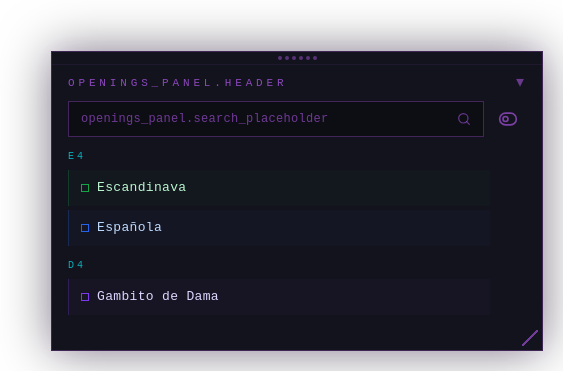
OpeningsPanel › does not show opening buttons when collapsed
# The collapse toggle button (▾)
Step 1. Click the button "▾" → (520, 83), box top-left (514, 73), bottom-right (526, 93)
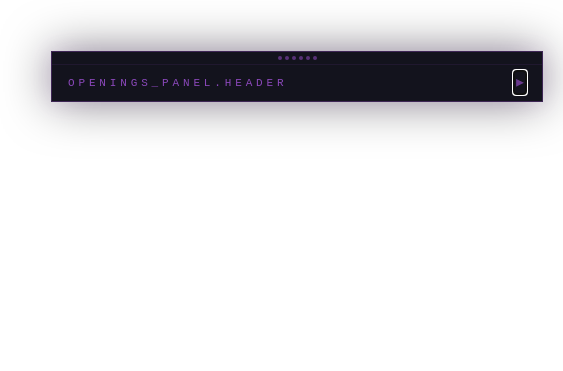
Now the button "Escandinava" is gone
